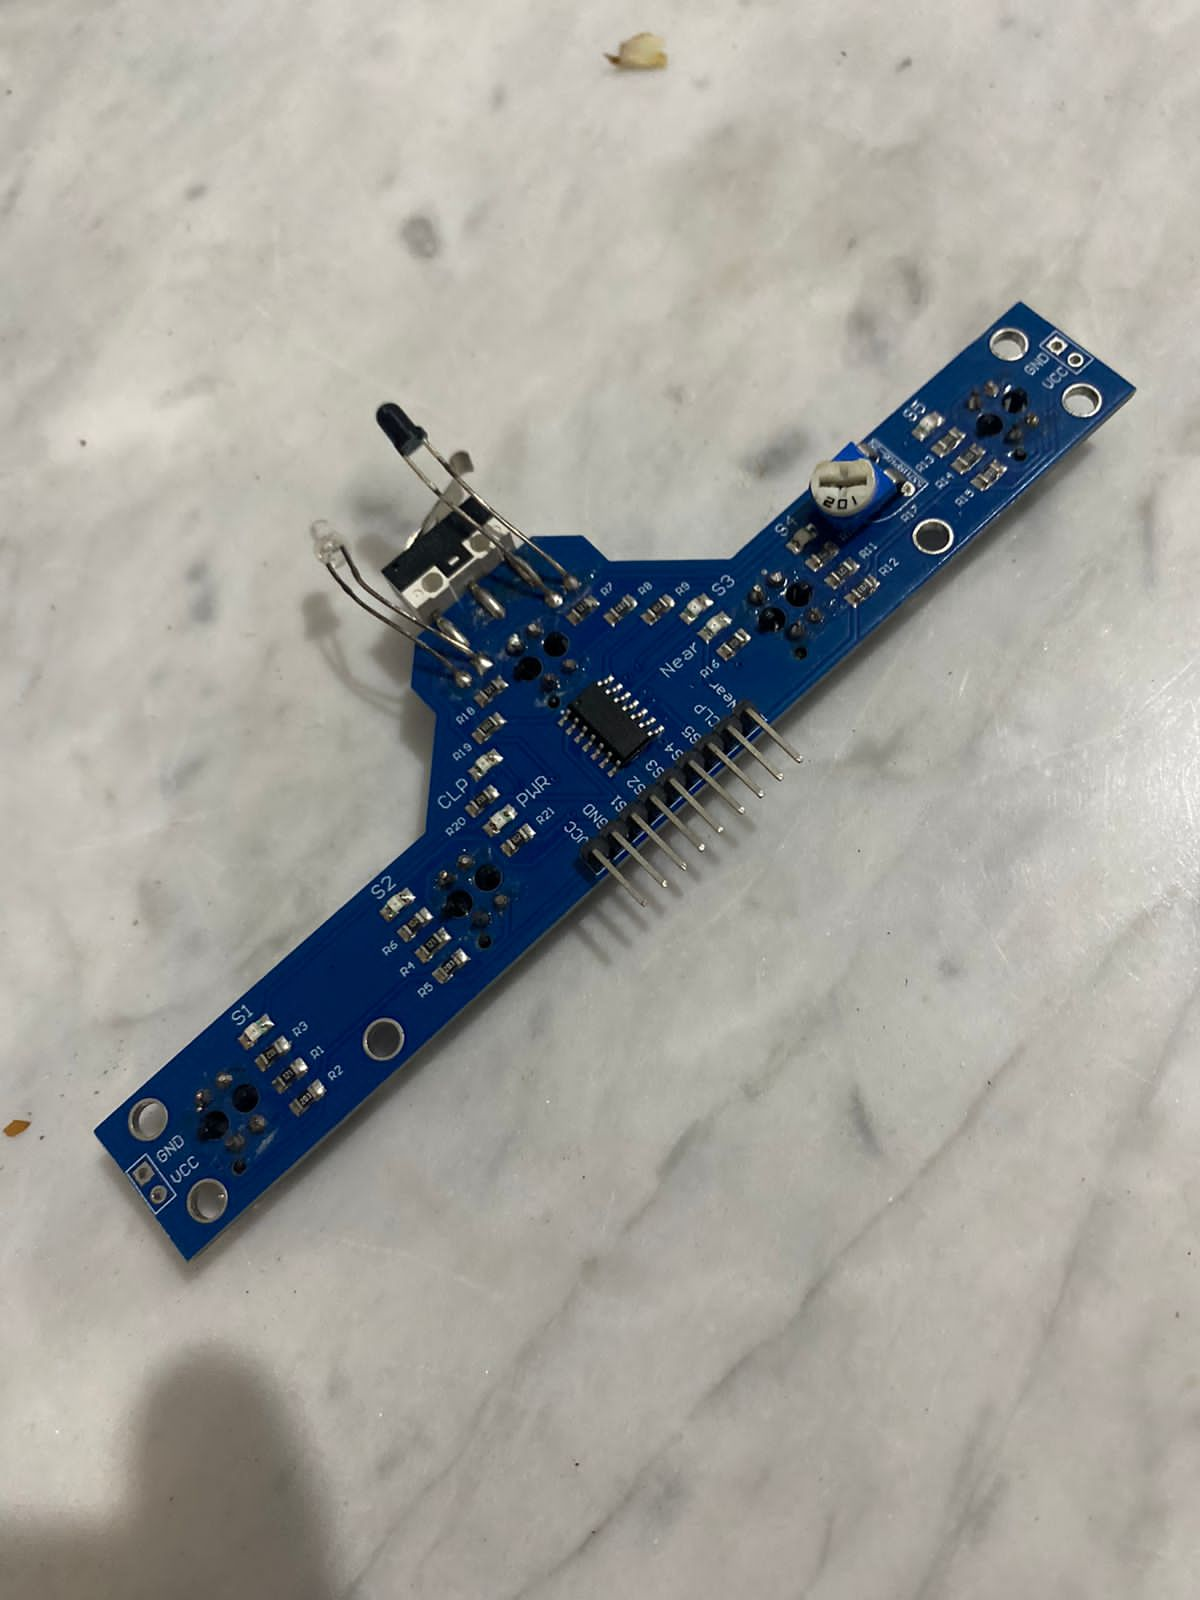Capteur-IR-5 Voies: (92, 297, 1139, 1261)
